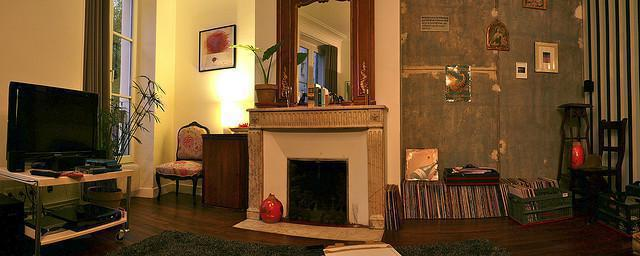Matera: (86, 71, 163, 217)
